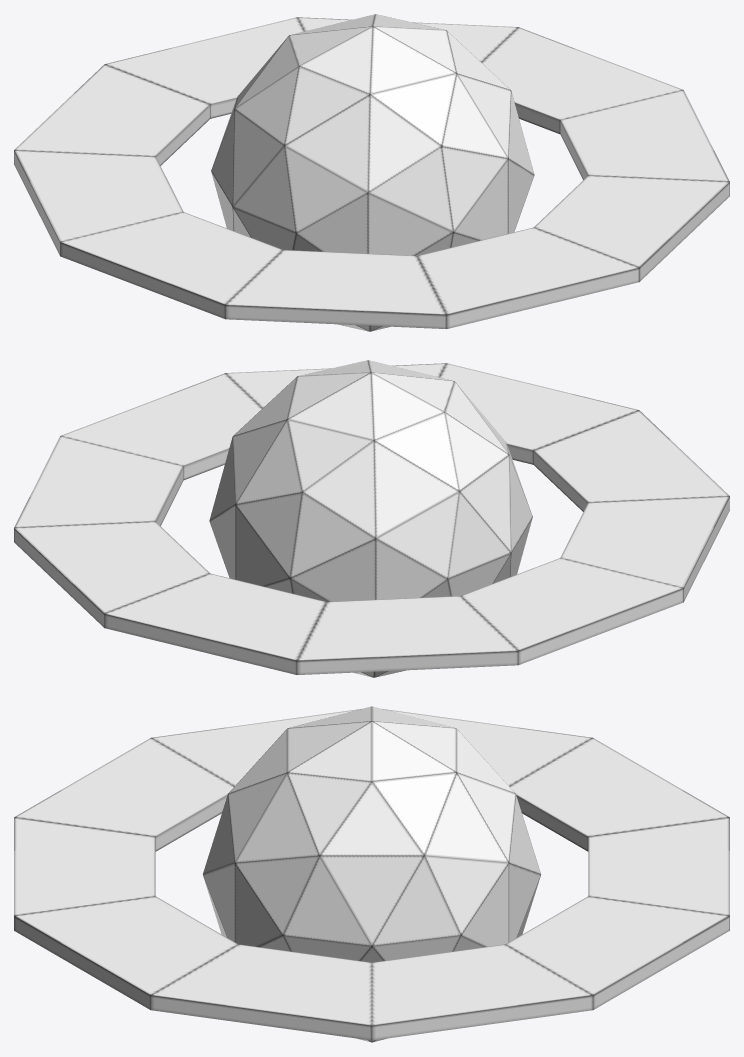
Rendered from Planet-06.fbx.
The picture shows the model from 3 angles, top to bottom: view 1: azimuth 30°, elevation 25°; view 2: azimuth 150°, elevation 25°; view 3: azimuth 270°, elevation 25°; orthographic projection. The views are drawn at different scales.
Parts seen in each view (by area): view 1: Planet_06; view 2: Planet_06; view 3: Planet_06.
Part boxes in pixels (left/top/right/bottom): Planet_06: left=14, top=14, right=729, bottom=331; Planet_06: left=14, top=360, right=729, bottom=677; Planet_06: left=14, top=706, right=729, bottom=1042.
Bounding box in the file's own units: 9.84 × 4.42 × 9.36.
